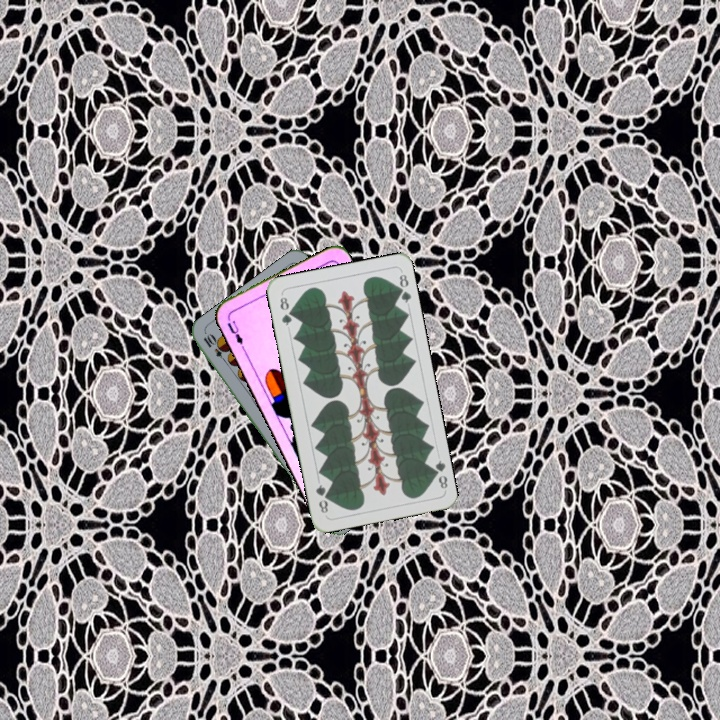E10: (199, 330, 231, 366)
EU: (223, 313, 246, 347)
G8: (427, 456, 450, 491), (276, 293, 295, 328)
